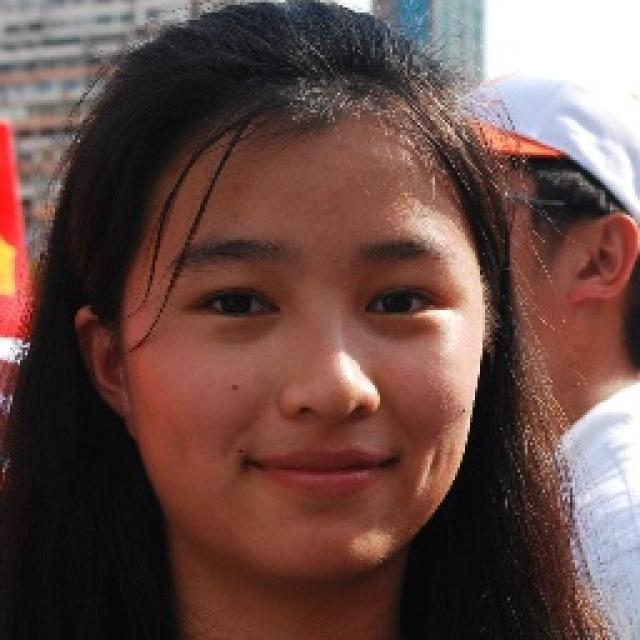earlobe: (101, 373, 128, 418)
eye: (196, 287, 277, 322), (364, 286, 438, 314)
nose: (280, 396, 388, 459)
wholeear: (74, 305, 128, 417)
